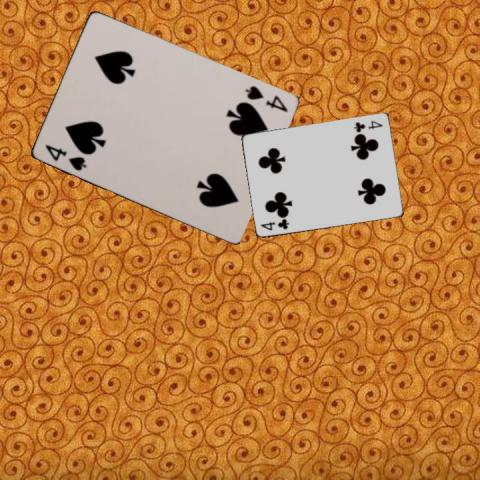4c: (351, 117, 385, 133), (258, 216, 291, 231)
4s: (241, 83, 289, 114), (42, 141, 88, 173)
